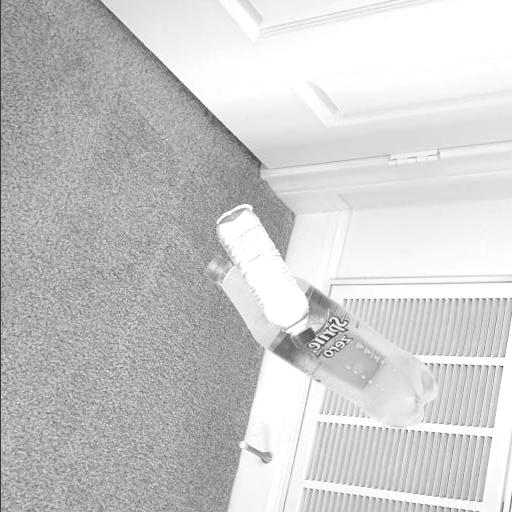bottle: (198, 247, 448, 437), (202, 198, 322, 351)
